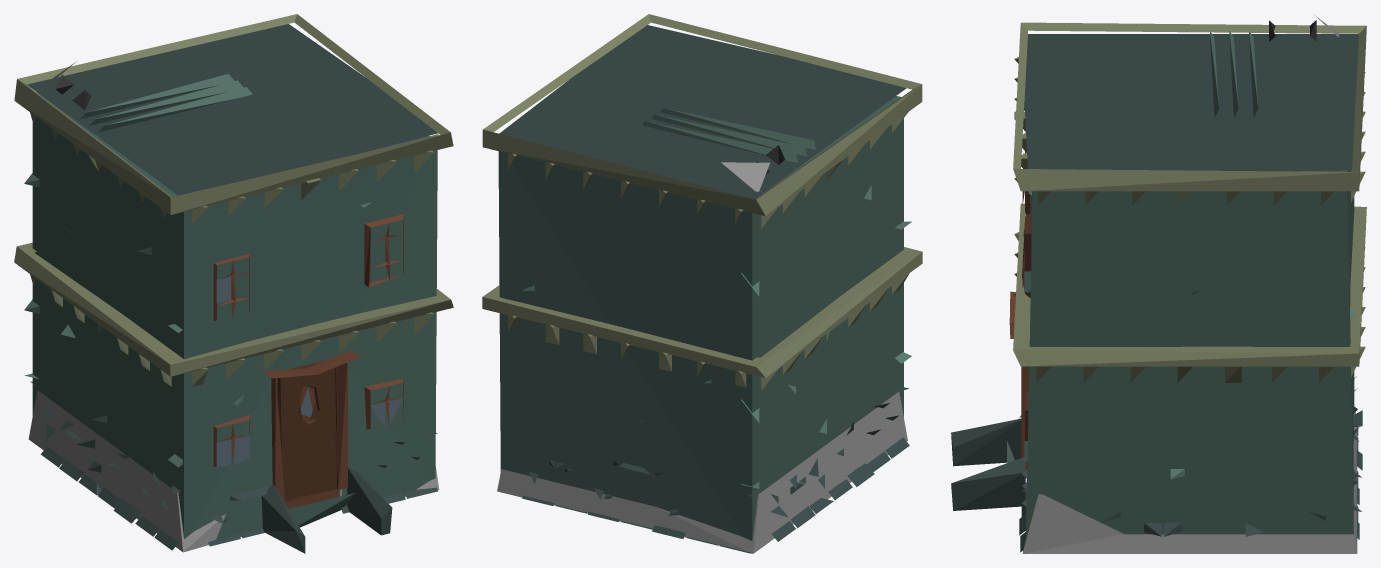
The model's file is 2Story_Stairs_lod.glb.
The picture shows the model from 3 angles, left to right: view 1: azimuth 30°, elevation 25°; view 2: azimuth 150°, elevation 25°; view 3: azimuth 270°, elevation 25°; orthographic projection. The views are drawn at different scales.
Parts seen in each view (by area): view 1: 2Story_Stairs_Mat; view 2: 2Story_Stairs_Mat; view 3: 2Story_Stairs_Mat.
Boxes of the visible parts, x1,y1,x2,y2 form: 2Story_Stairs_Mat: (14,14,453,553); 2Story_Stairs_Mat: (482,14,922,553); 2Story_Stairs_Mat: (951,15,1366,553).
Bounding box in the file's own units: 2.16 × 2.73 × 2.53.
